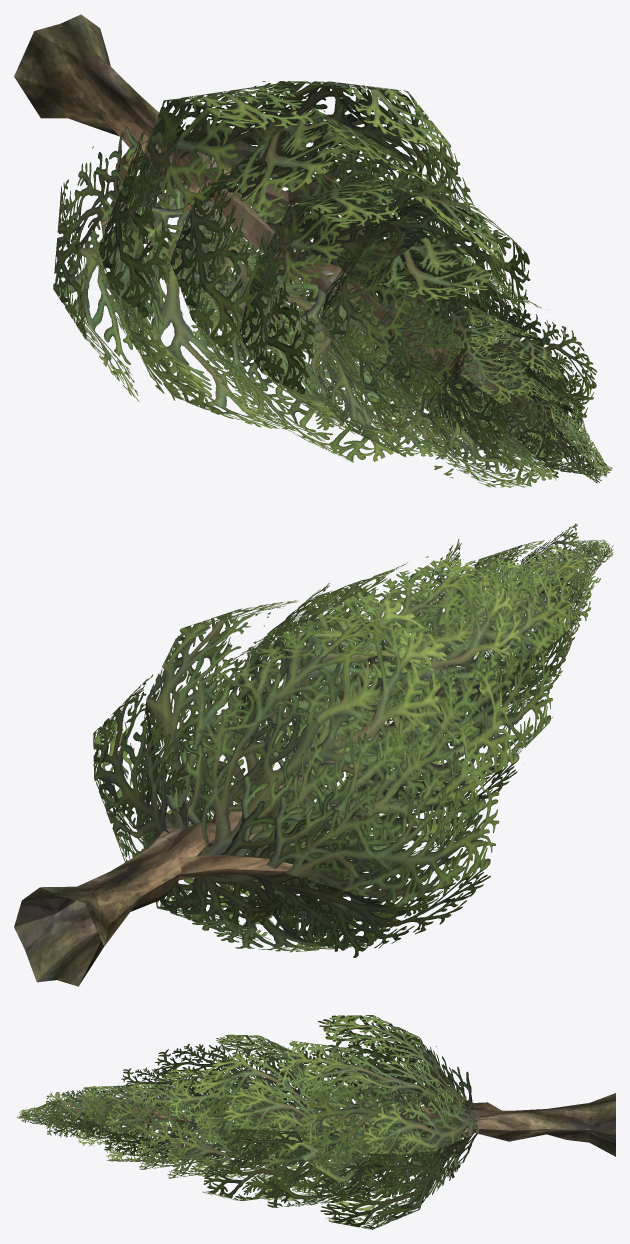
File: cebo.obj
3 views of the same model, one above another, from view 1: azimuth 30°, elevation 25°; view 2: azimuth 150°, elevation 25°; view 3: azimuth 270°, elevation 25° (orthographic). The views are drawn at different scales.
Parts seen in each view (by area): view 1: cebo; view 2: cebo; view 3: cebo.
Part boxes in pixels (<box>): cebo: <box>14,14,612,487</box>; cebo: <box>14,523,613,986</box>; cebo: <box>17,1015,615,1229</box>.
Bounding box in the file's own units: 113 × 93.55 × 281.
2 materials, 2 textured.
